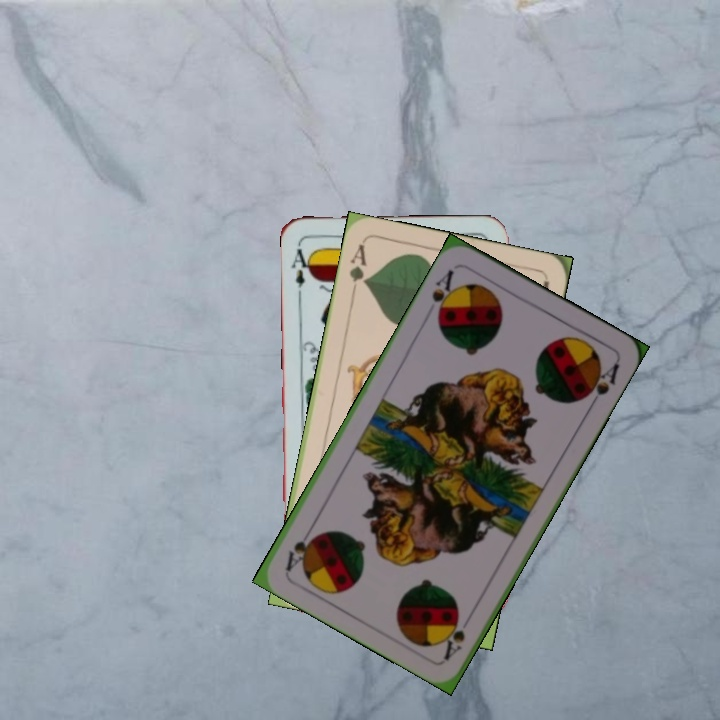EA: (288, 241, 315, 290)
GA: (345, 240, 370, 298)
SA: (427, 265, 459, 323), (439, 610, 468, 663)
